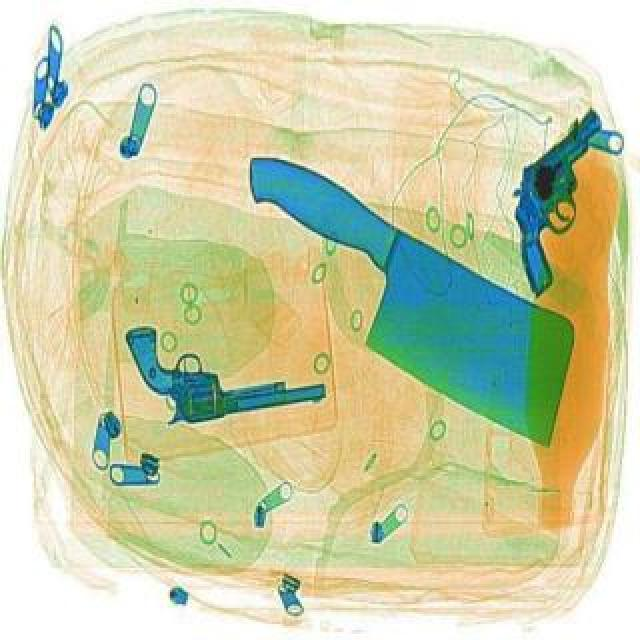gun: (474, 88, 630, 302), (104, 314, 336, 450)
knife: (186, 124, 612, 450)
